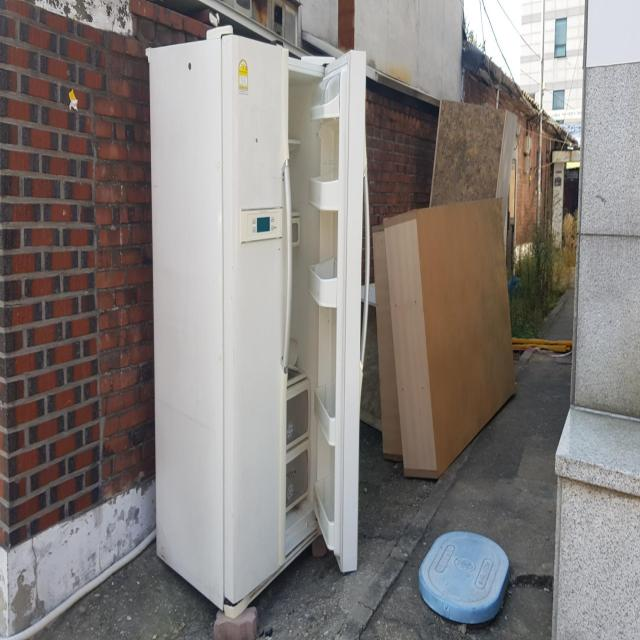refrigerator: (144, 24, 370, 622)
